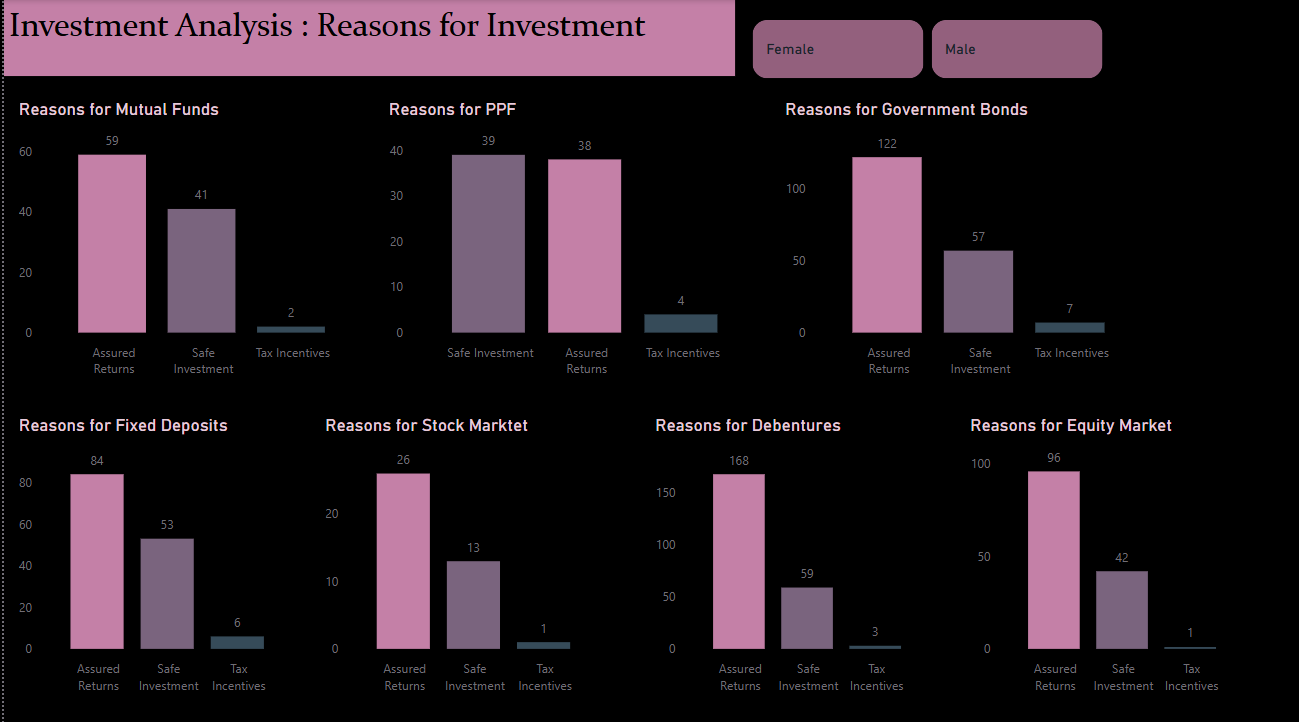

The page's visual inventory and layout, read from the dashboard file:
{"tool":"powerbi","page":{"name":"Reasons for Investment","canvas":[1280,720],"ordinal":4},"visuals":[{"type":"clusteredColumnChart","title":"Reasons for Mutual Funds ","fields":{"Y":["Sum(POWER BI COGNIFZY.Mutual_Funds)"],"Category":["POWER BI COGNIFZY.Reason_Bonds"]},"box":[10,97,348,280],"z":0},{"type":"clusteredColumnChart","title":"Reasons for  Fixed Deposits","fields":{"Y":["Sum(POWER BI COGNIFZY.Fixed_Deposits)"],"Category":["POWER BI COGNIFZY.Reason_Bonds"]},"box":[10,406,280,280],"z":1000},{"type":"clusteredColumnChart","title":"Reasons for  PPF ","fields":{"Category":["POWER BI COGNIFZY.Reason_Bonds"],"Y":["Sum(POWER BI COGNIFZY.PPF)"]},"box":[372,97,373,280],"z":2000},{"type":"clusteredColumnChart","title":"Reasons for Stock Marktet ","fields":{"Category":["POWER BI COGNIFZY.Reason_Bonds"],"Y":["CountNonNull(POWER BI COGNIFZY.Stock_Marktet)"]},"box":[309,406,280,280],"z":3000},{"type":"clusteredColumnChart","title":"Reasons for Government Bonds","fields":{"Y":["Sum(POWER BI COGNIFZY.Government_Bonds)"],"Category":["POWER BI COGNIFZY.Reason_Bonds"]},"box":[759,97,362,280],"z":4000},{"type":"clusteredColumnChart","title":"Reasons for Debentures","fields":{"Y":["Sum(POWER BI COGNIFZY.Debentures)"],"Category":["POWER BI COGNIFZY.Reason_Bonds"]},"box":[632,406,280,280],"z":5000},{"type":"clusteredColumnChart","title":"Reasons for Equity Market ","fields":{"Y":["Sum(POWER BI COGNIFZY.Equity_Market)"],"Category":["POWER BI COGNIFZY.Reason_Bonds"]},"box":[940,406,280,280],"z":6000},{"type":"textbox","box":[0,0,715,74],"z":7000},{"type":"advancedSlicerVisual","fields":{"Values":["POWER BI COGNIFZY.gender"]},"box":[728,15,352,67],"z":8000}]}

Visuals, with their boxes in screenshot pixels (x1, y1, x2, y2), scaled from the page's 1280x720 canvas onto the 1299x722 screenshot:
"Reasons for Mutual Funds " clusteredColumnChart: left=10, top=97, right=363, bottom=378
"Reasons for  Fixed Deposits" clusteredColumnChart: left=10, top=407, right=294, bottom=688
"Reasons for  PPF " clusteredColumnChart: left=378, top=97, right=756, bottom=378
"Reasons for Stock Marktet " clusteredColumnChart: left=314, top=407, right=598, bottom=688
"Reasons for Government Bonds" clusteredColumnChart: left=770, top=97, right=1138, bottom=378
"Reasons for Debentures" clusteredColumnChart: left=641, top=407, right=926, bottom=688
"Reasons for Equity Market " clusteredColumnChart: left=954, top=407, right=1238, bottom=688
textbox: left=0, top=0, right=726, bottom=74
advancedSlicerVisual - POWER BI COGNIFZY.gender: left=739, top=15, right=1096, bottom=82
